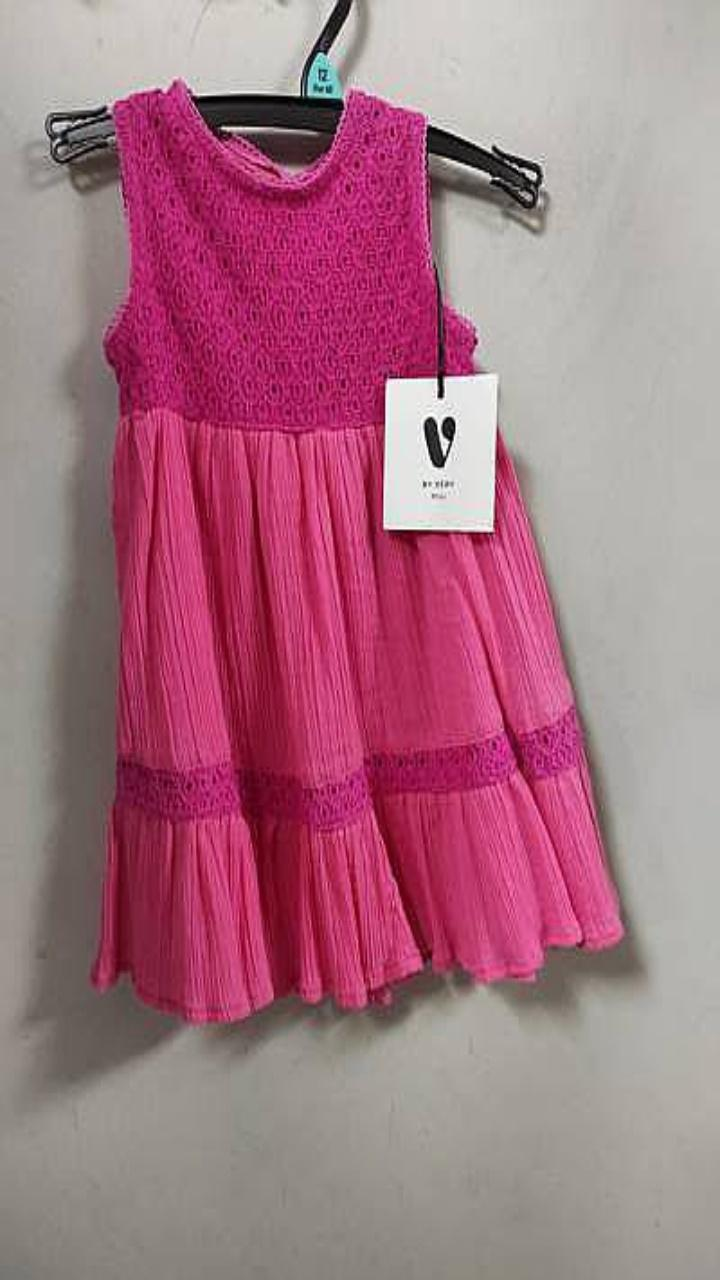Dresses: (92, 78, 622, 1021)
